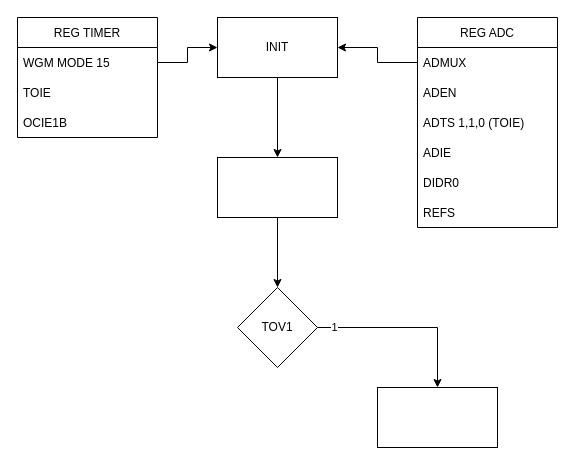
Some shapes in this 575 by 465 pixel diagram are drawn without their labels. The centre of each missing label's shape, as x and y in pixels:
"ADC START" belongs at point 437,417.
"TIMER START" belongs at point 277,187.
